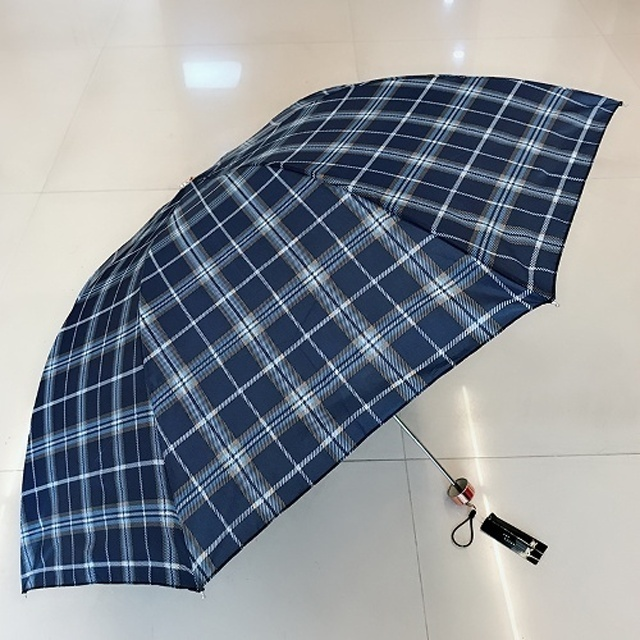umbrella: (13, 70, 626, 600)
